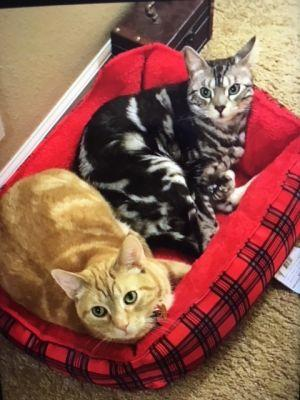bengal: (176, 28, 271, 130)
